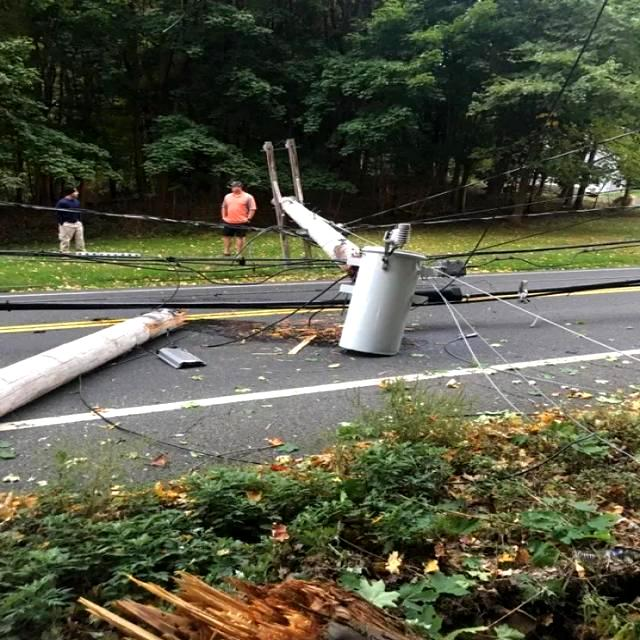Broken Pole: (271, 195, 430, 355)
